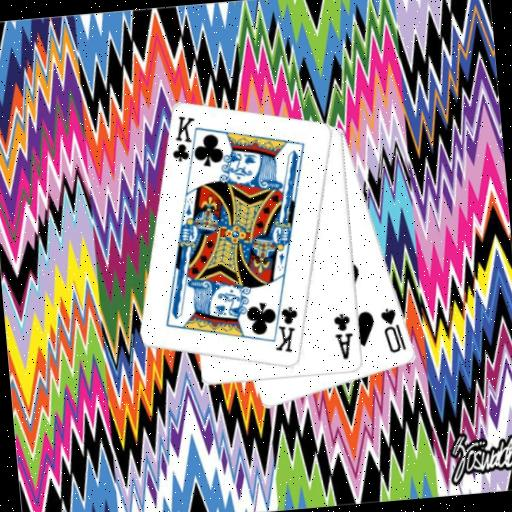10S: (377, 304, 409, 356)
AC: (331, 310, 358, 362)
KC: (166, 112, 204, 172), (266, 296, 303, 356)
